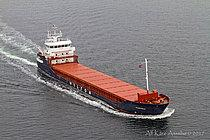Ship: (34, 24, 172, 121)
